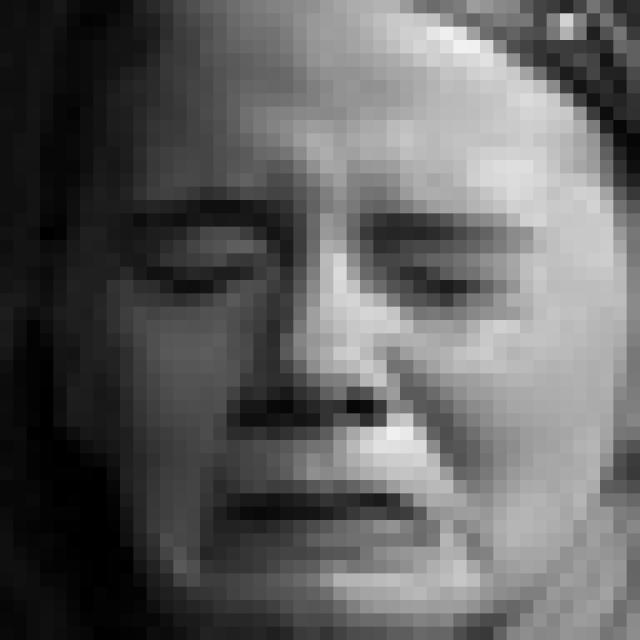sad: (131, 155, 552, 596)
